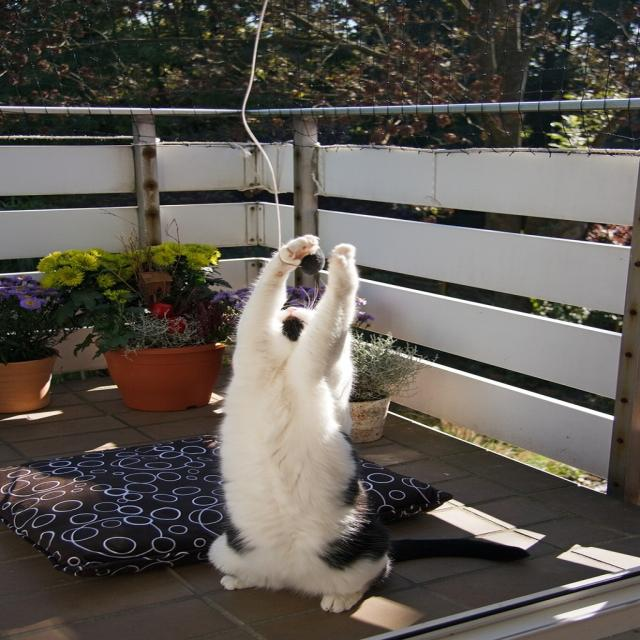Cat: (203, 232, 524, 612)
